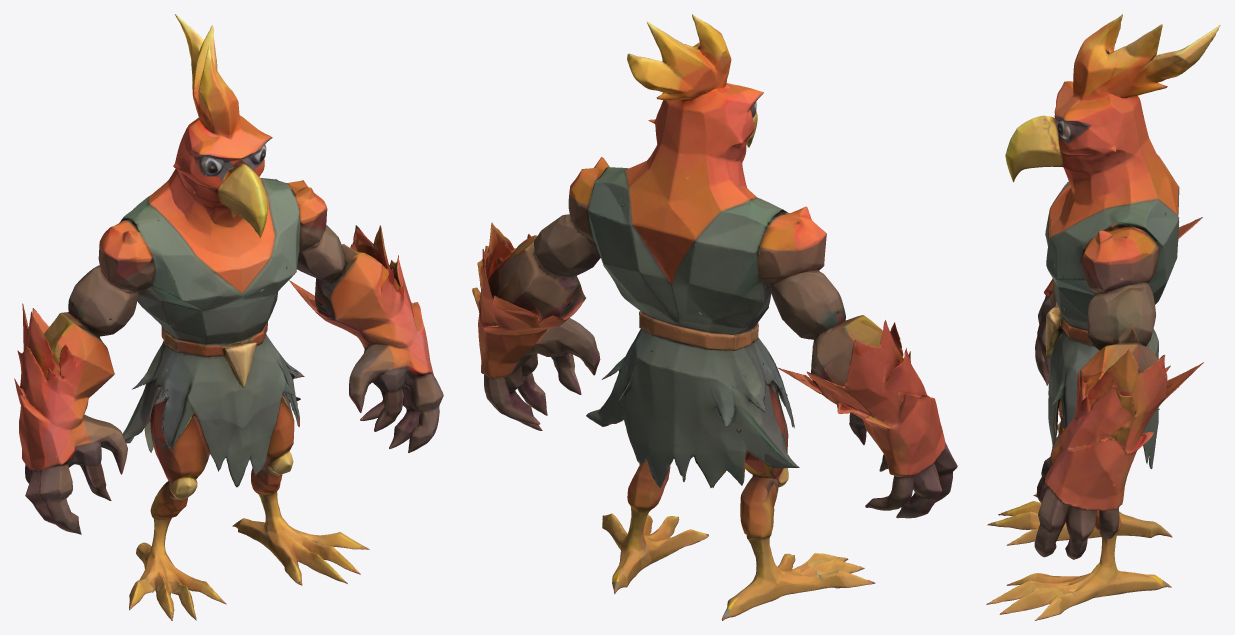
File: LowPolyBirdLar.fbx
The picture shows the model from 3 angles, left to right: view 1: azimuth 30°, elevation 25°; view 2: azimuth 150°, elevation 25°; view 3: azimuth 270°, elevation 25°; orthographic projection. The views are drawn at different scales.
Parts seen in each view (by area): view 1: input; view 2: input; view 3: input.
Part boxes in pixels (left/top/right/bottom): input: left=14, top=14, right=443, bottom=620; input: left=472, top=14, right=957, bottom=620; input: left=986, top=14, right=1220, bottom=620.
Size of the model in its own units: 82.75 by 100 by 38.48.
1 material, 1 textured.
